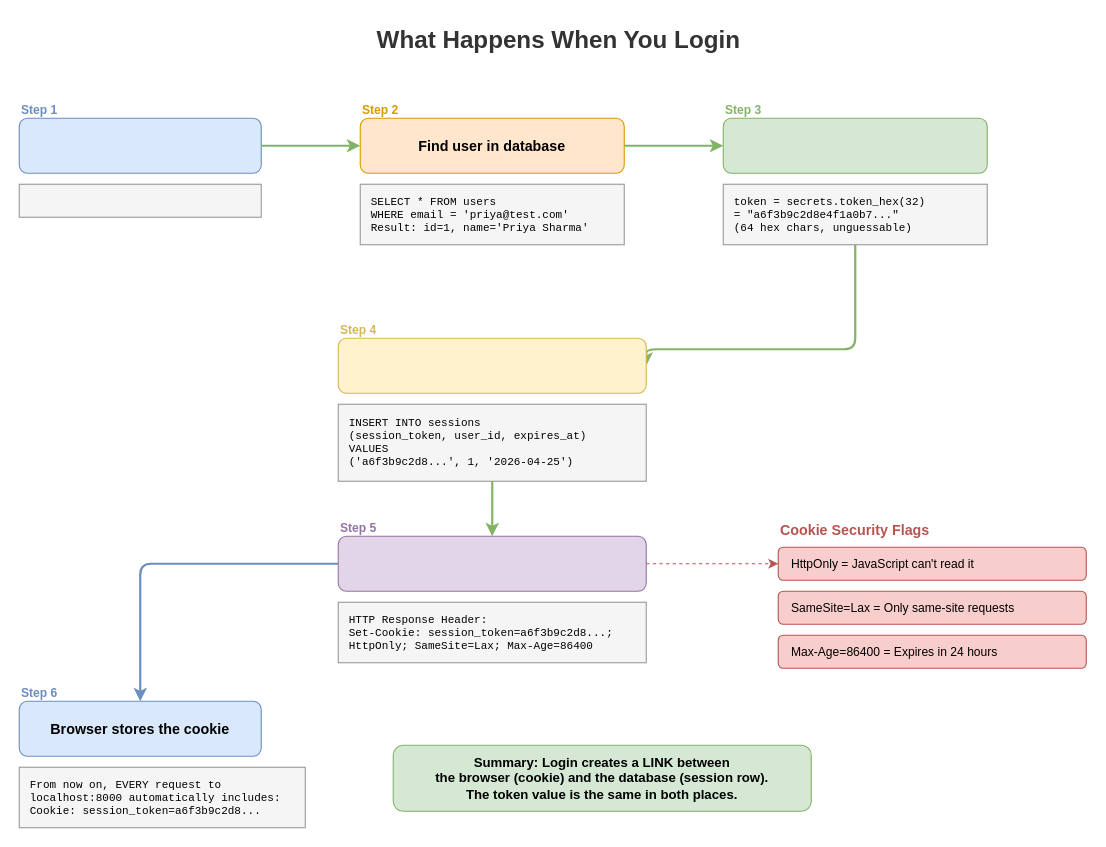
Image size: 1106x847. Some labels were removed from this diagram. The shapes that lost their labels are listed below. From the top down, each one's centre as x and y in pixels, then its label:
(139,145): POST /auth/login
(854,145): Generate random token
(139,200): {"email": "priya@test.com"}
(491,365): Save session to database
(491,563): Set cookie on HTTP response
